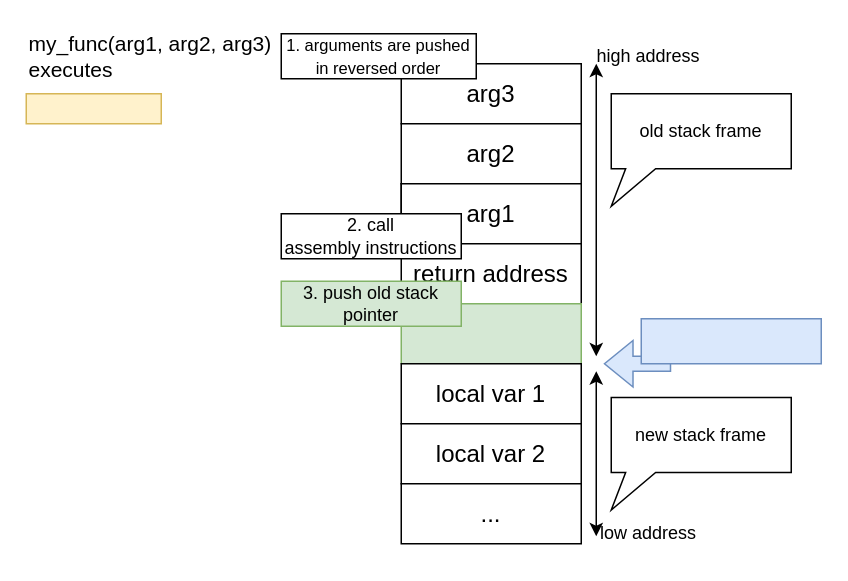
Some shapes in this 848 by 581 pixel diagram are drawn without their labels. The centre of each missing label's shape, as x and y in pixels:
"4. setup new %ebp here" belongs at (730,340).
"old %ebp" belongs at (490,333).
"the setup stage" belongs at (93,108).
